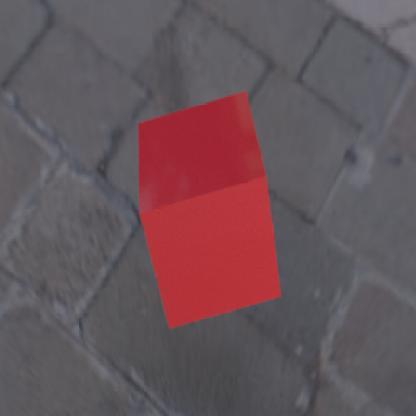cube: (137, 90, 281, 328)
